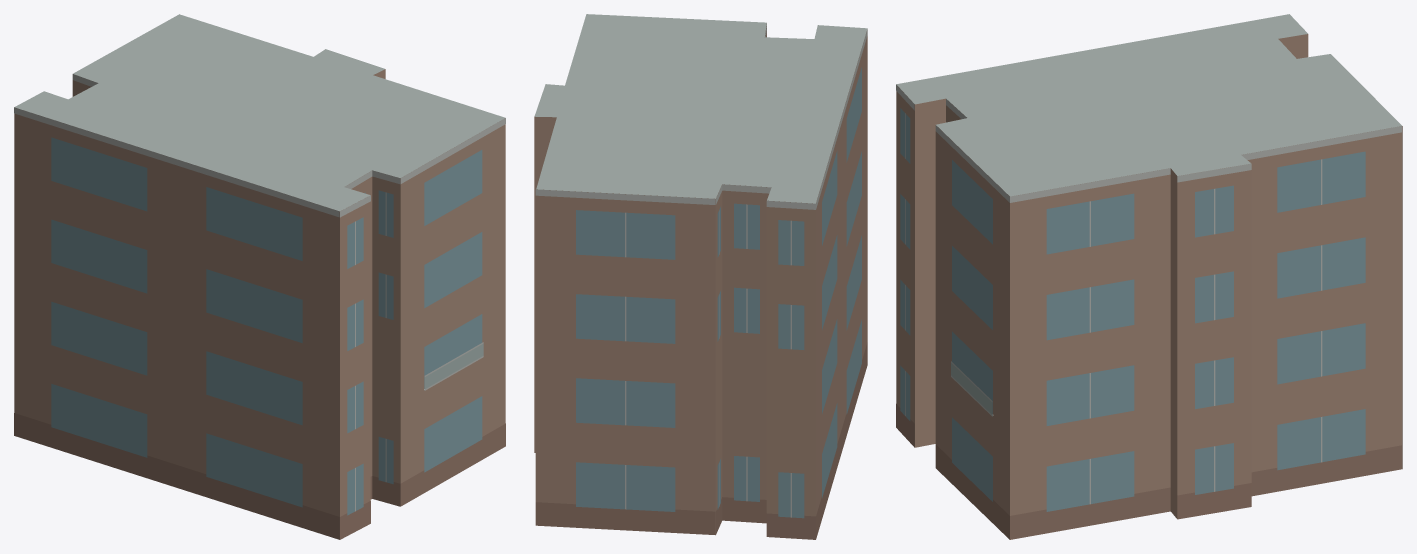
File: survey-upis-32923086.glb
3 views of the same model, side by side, from view 1: azimuth 30°, elevation 25°; view 2: azimuth 150°, elevation 25°; view 3: azimuth 270°, elevation 25° (orthographic). The views are drawn at different scales.
Visible parts, largest first — view 1: survey-upis-32923086.tmp; view 2: survey-upis-32923086.tmp; view 3: survey-upis-32923086.tmp.
Boxes of the visible parts, x1,y1,x2,y2 form: survey-upis-32923086.tmp: (14, 14, 505, 539); survey-upis-32923086.tmp: (534, 14, 867, 539); survey-upis-32923086.tmp: (896, 14, 1402, 539).
Size of the model in its own units: 14.78 by 12.95 by 17.33.
